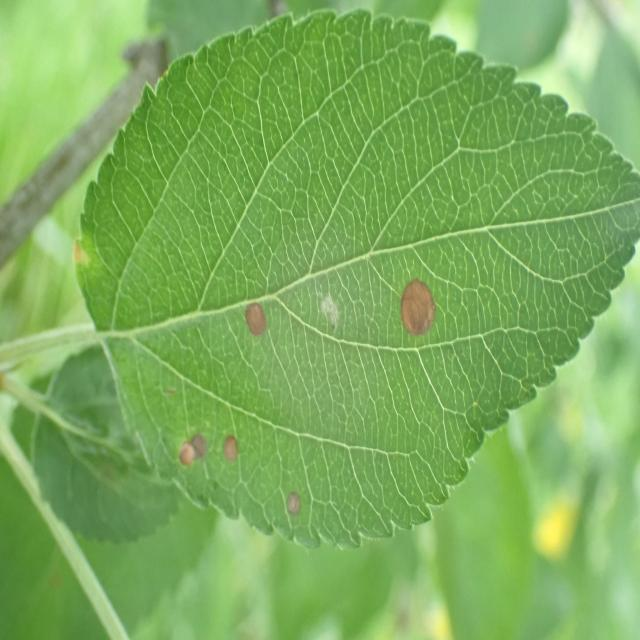Black Rot: (377, 257, 448, 370), (237, 276, 274, 362), (160, 420, 217, 474), (278, 477, 313, 534), (219, 418, 239, 478)
